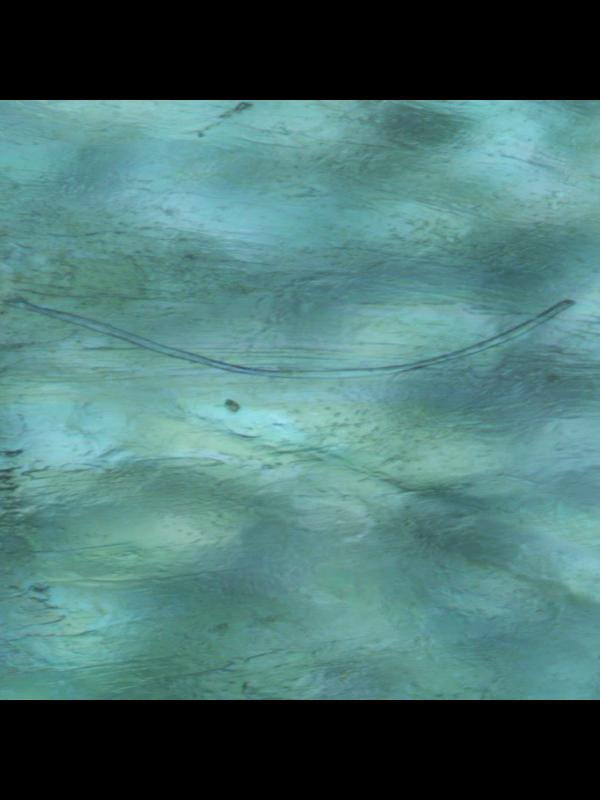microplastic: (0, 292, 574, 380)
